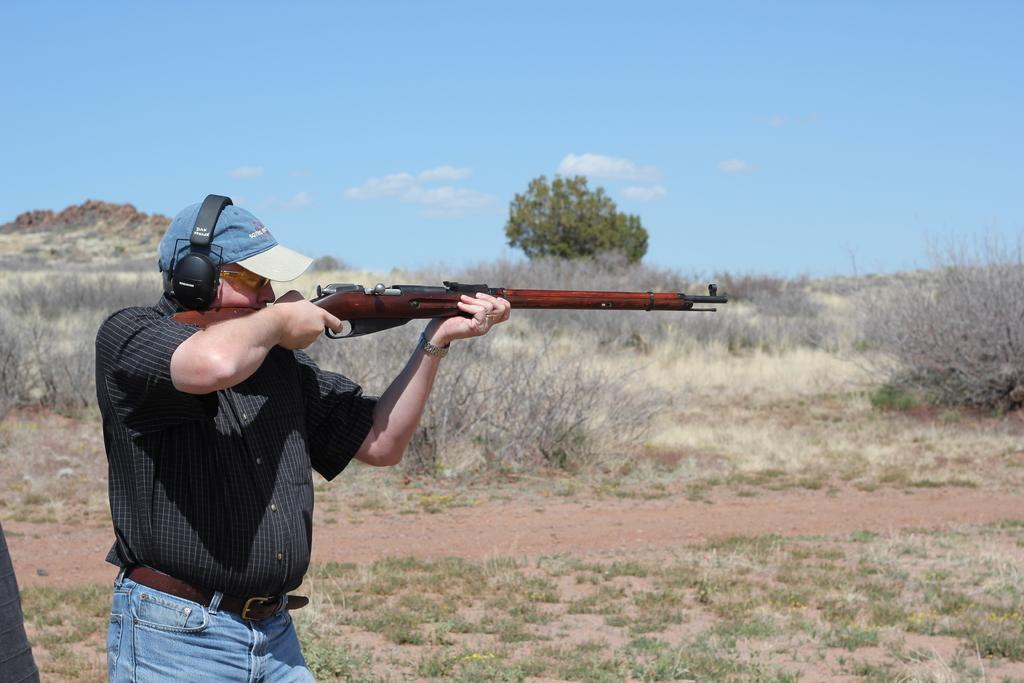Shotgun: (165, 281, 733, 341)
